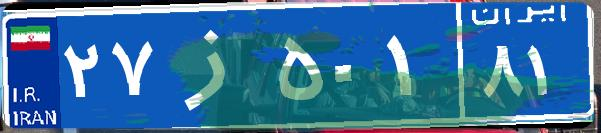0: (330, 28, 385, 110)
1: (385, 28, 445, 110), (525, 38, 570, 115)
2: (57, 26, 110, 107)
5: (273, 28, 330, 110)
7: (110, 28, 158, 105)
8: (475, 38, 525, 113)
ز: (158, 15, 273, 115)
